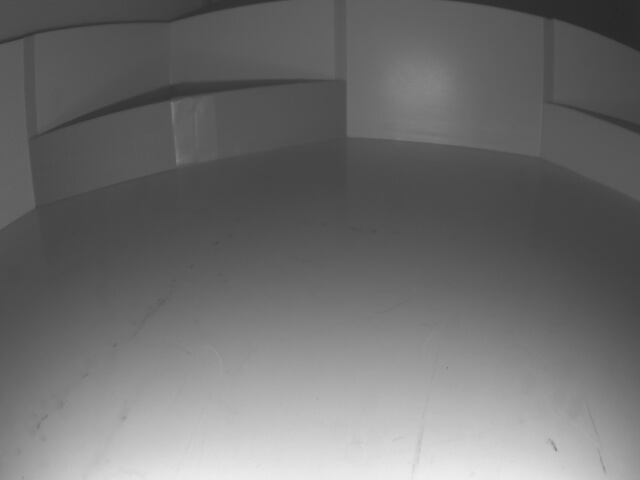Point: (36, 81, 347, 209), (543, 102, 640, 200)
